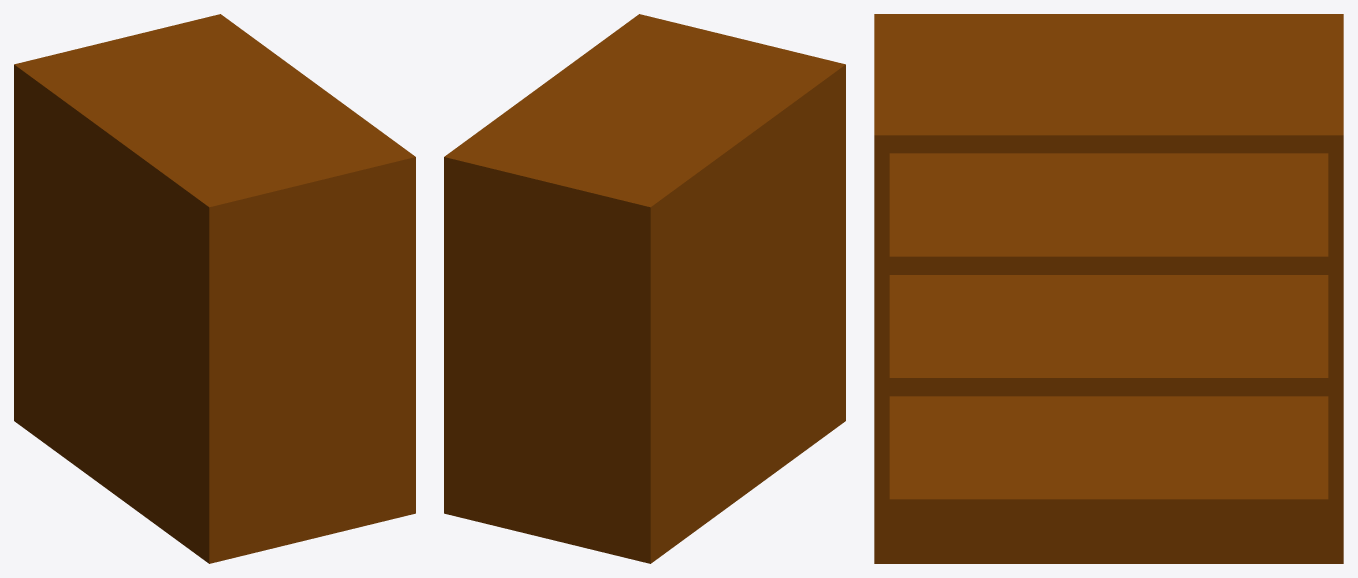
File: Reol_2.fbx
3 views of the same model, side by side, from view 1: azimuth 30°, elevation 25°; view 2: azimuth 150°, elevation 25°; view 3: azimuth 270°, elevation 25° (orthographic). The views are drawn at different scales.
Visible parts, largest first — view 1: Reol_2; view 2: Reol_2; view 3: Reol_2.
Part boxes in pixels (left/top/right/bottom): Reol_2: left=14, top=14, right=415, bottom=563; Reol_2: left=444, top=14, right=845, bottom=563; Reol_2: left=874, top=14, right=1343, bottom=563.
Bounding box in the file's own units: 122 × 202 × 200.
